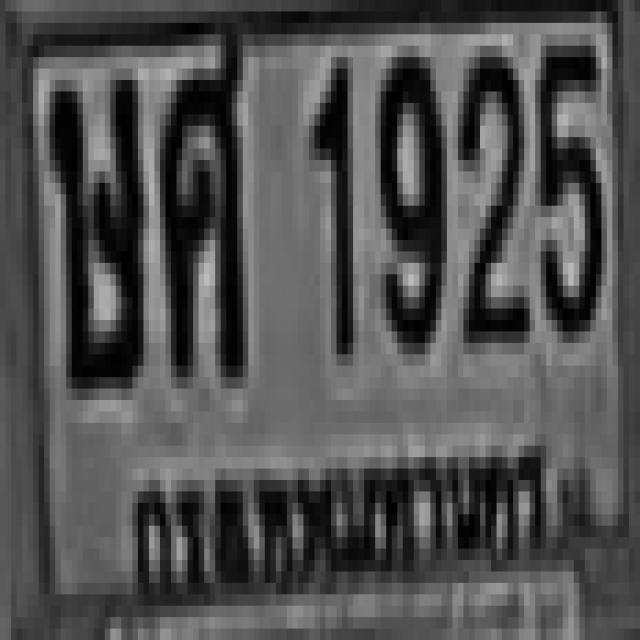1: (309, 52, 348, 348)
2: (456, 40, 522, 337)
47SorSala: (157, 29, 240, 372)
48SorRueSi: (44, 69, 138, 388)
5: (536, 35, 602, 332)
9: (376, 46, 442, 343)
